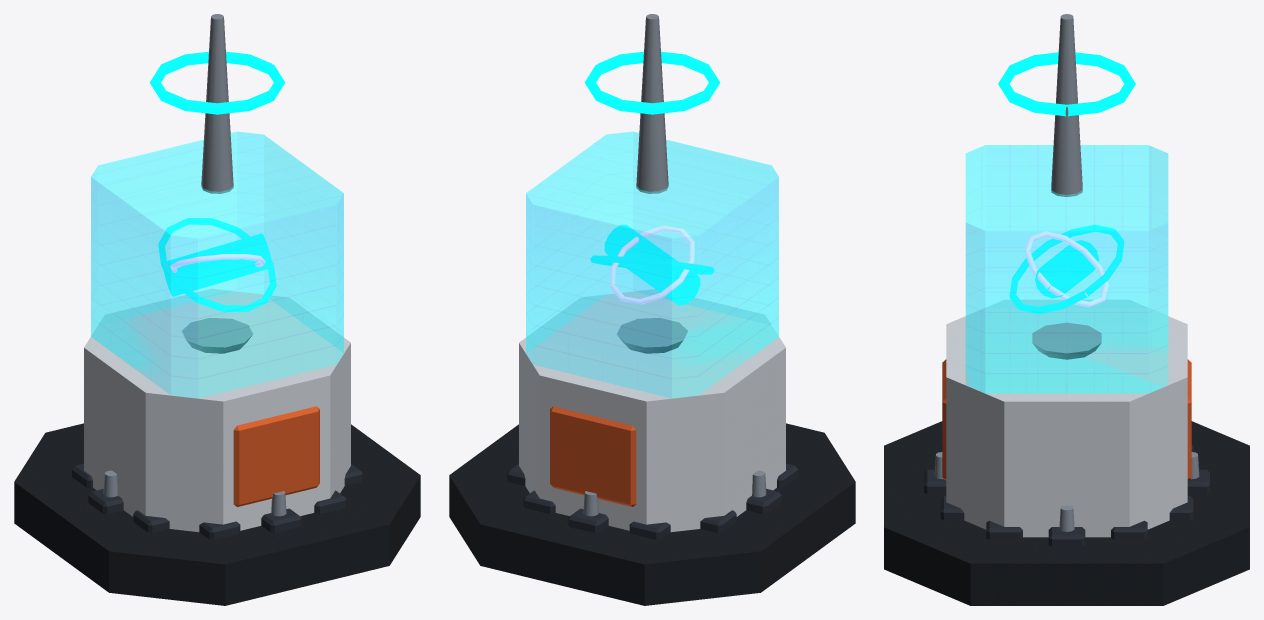
The model's file is prop_02_r1_04.glb.
3 renders of one model, left to right at view 1: azimuth 30°, elevation 25°; view 2: azimuth 150°, elevation 25°; view 3: azimuth 270°, elevation 25°, orthographic.
Visible parts, largest first — view 1: Prop02_C04_glass_cyan, Prop02_C04_aero_white, Prop02_C04_gunmetal, Prop02_C04_led_cyan, Prop02_C04_accent_orange, Prop02_C04_steel_machined, Prop02_C04_carbon_slate, Prop02_C04_led_uv; view 2: Prop02_C04_glass_cyan, Prop02_C04_aero_white, Prop02_C04_gunmetal, Prop02_C04_accent_orange, Prop02_C04_led_cyan, Prop02_C04_steel_machined, Prop02_C04_carbon_slate, Prop02_C04_led_uv; view 3: Prop02_C04_aero_white, Prop02_C04_glass_cyan, Prop02_C04_gunmetal, Prop02_C04_led_cyan, Prop02_C04_steel_machined, Prop02_C04_carbon_slate, Prop02_C04_led_uv, Prop02_C04_accent_orange.
Part boxes in pixels (box(x1,y1,x2,y2)): Prop02_C04_glass_cyan: box(91, 131, 343, 398); Prop02_C04_aero_white: box(84, 289, 350, 532); Prop02_C04_gunmetal: box(14, 423, 420, 605); Prop02_C04_led_cyan: box(149, 51, 285, 312); Prop02_C04_accent_orange: box(233, 406, 319, 506); Prop02_C04_steel_machined: box(103, 14, 286, 516); Prop02_C04_carbon_slate: box(72, 463, 362, 539); Prop02_C04_led_uv: box(170, 254, 265, 272); Prop02_C04_glass_cyan: box(526, 131, 778, 398); Prop02_C04_aero_white: box(519, 289, 785, 532); Prop02_C04_gunmetal: box(449, 423, 855, 605); Prop02_C04_accent_orange: box(550, 406, 636, 506); Prop02_C04_led_cyan: box(584, 51, 720, 305); Prop02_C04_steel_machined: box(583, 14, 766, 516); Prop02_C04_carbon_slate: box(507, 463, 797, 539); Prop02_C04_led_uv: box(610, 225, 694, 304); Prop02_C04_aero_white: box(946, 300, 1187, 537); Prop02_C04_glass_cyan: box(965, 145, 1168, 393); Prop02_C04_gunmetal: box(884, 421, 1249, 605); Prop02_C04_led_cyan: box(998, 52, 1135, 313); Prop02_C04_steel_machined: box(934, 14, 1199, 531); Prop02_C04_carbon_slate: box(924, 445, 1209, 546); Prop02_C04_led_uv: box(1025, 231, 1108, 307); Prop02_C04_accent_orange: box(942, 359, 1191, 480).
Size of the model in its own units: 2.2 by 3.39 by 2.2.
Materials: 8 (8 with a texture image).
